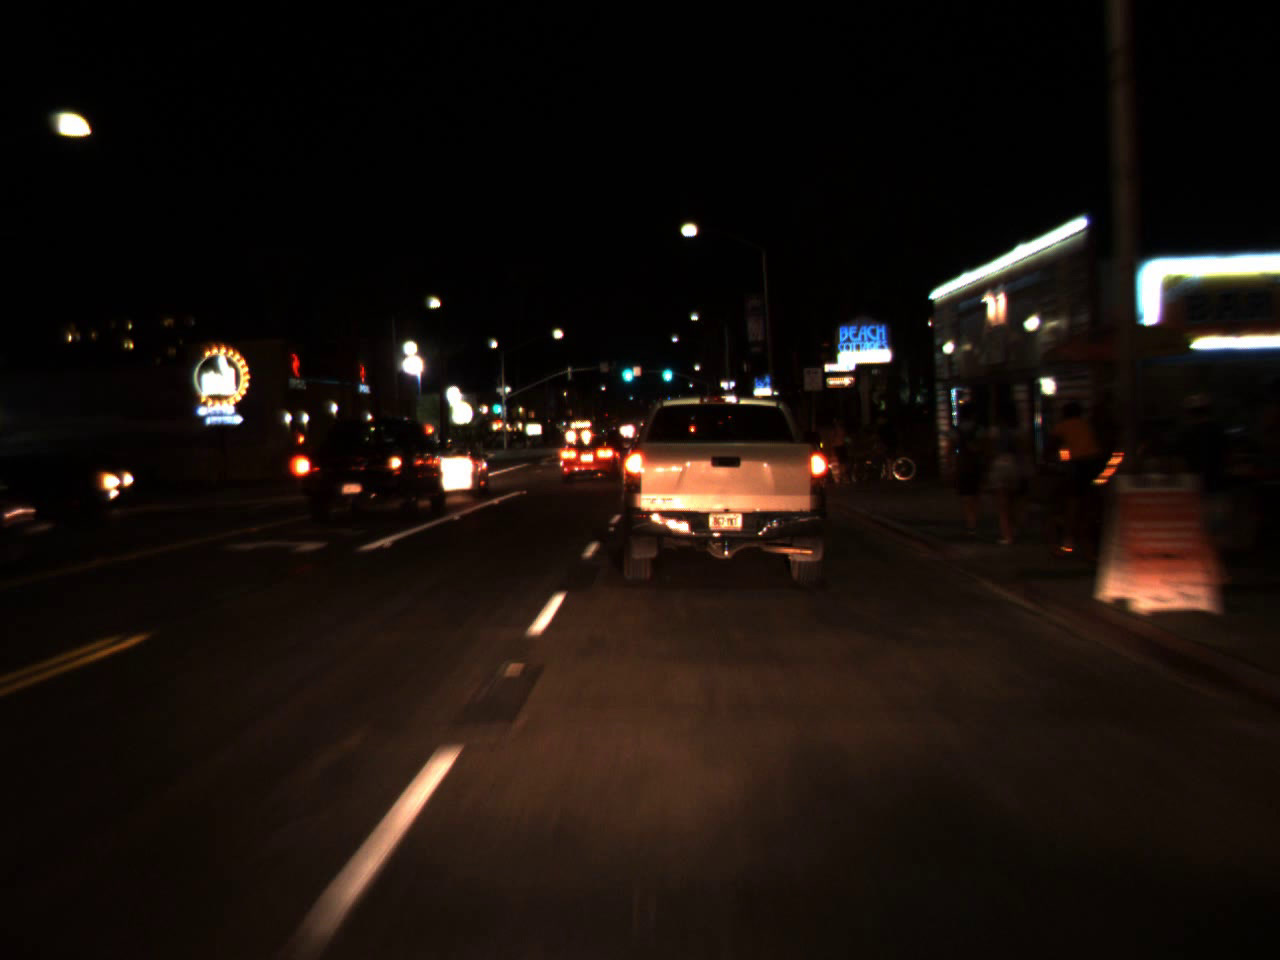go: (618, 353, 634, 386), (658, 355, 674, 385), (491, 393, 501, 417)
